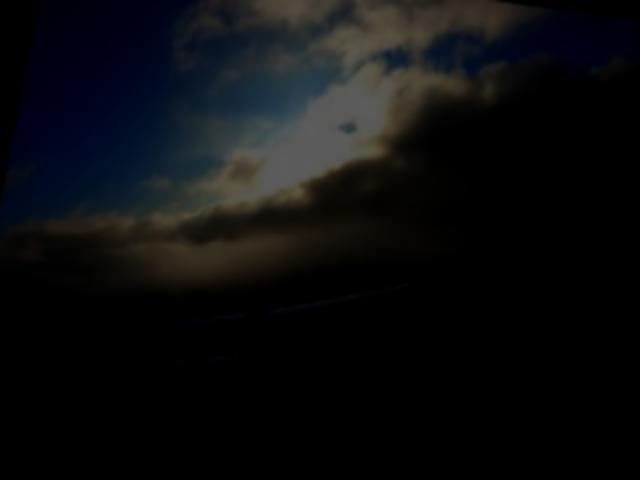uav: (140, 226, 420, 429)
